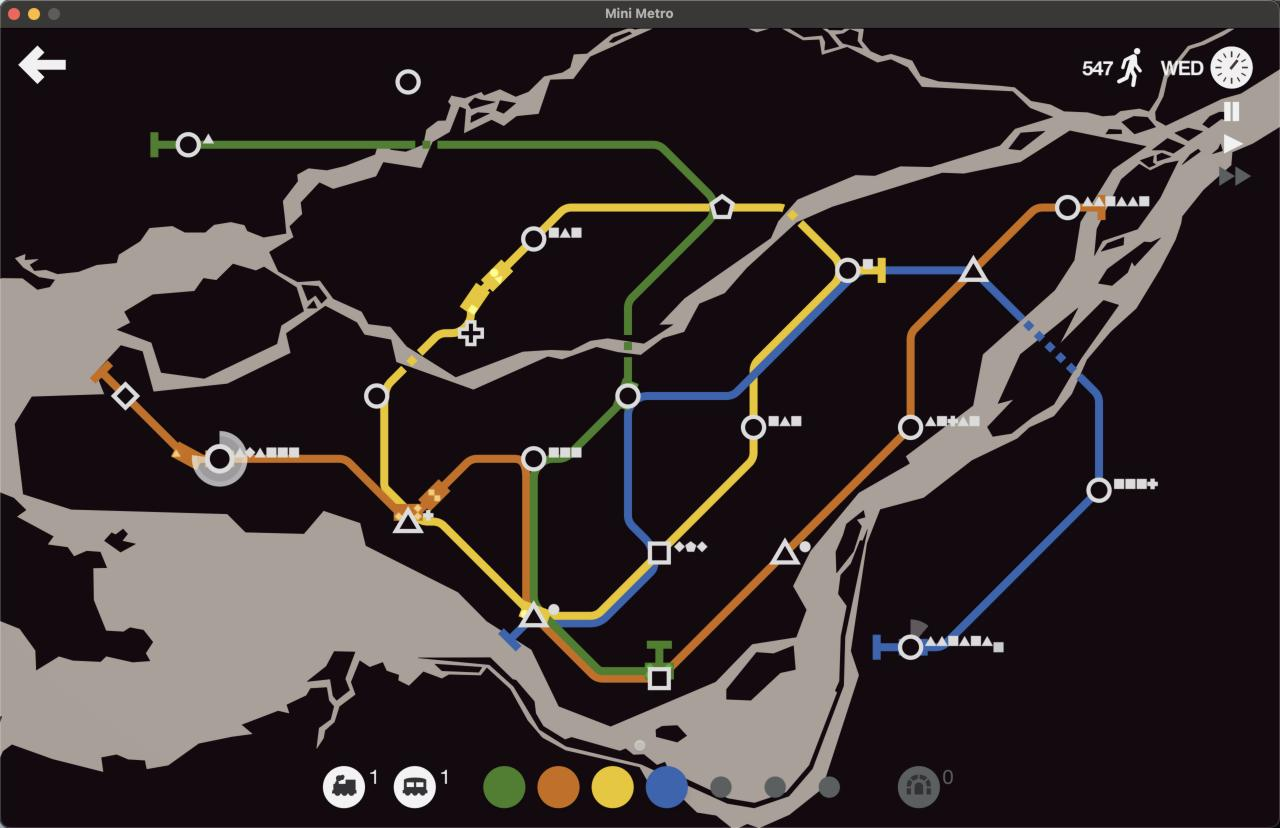CIRCLE: (204, 443, 235, 474), (175, 131, 203, 158), (897, 633, 925, 660), (1086, 476, 1113, 504), (614, 382, 641, 409), (897, 414, 924, 441), (394, 68, 421, 95), (1054, 194, 1082, 220), (363, 383, 390, 409), (520, 225, 547, 251), (835, 257, 861, 283), (521, 445, 547, 471), (740, 414, 766, 440)
CROSS: (458, 321, 485, 346)
GEM: (111, 381, 141, 411)
PENTAGON: (710, 195, 735, 219)
SQUARE: (646, 664, 673, 691), (646, 540, 671, 564)
TRIANGLE: (958, 253, 990, 282), (770, 537, 802, 566), (518, 601, 550, 628), (393, 507, 423, 534)
